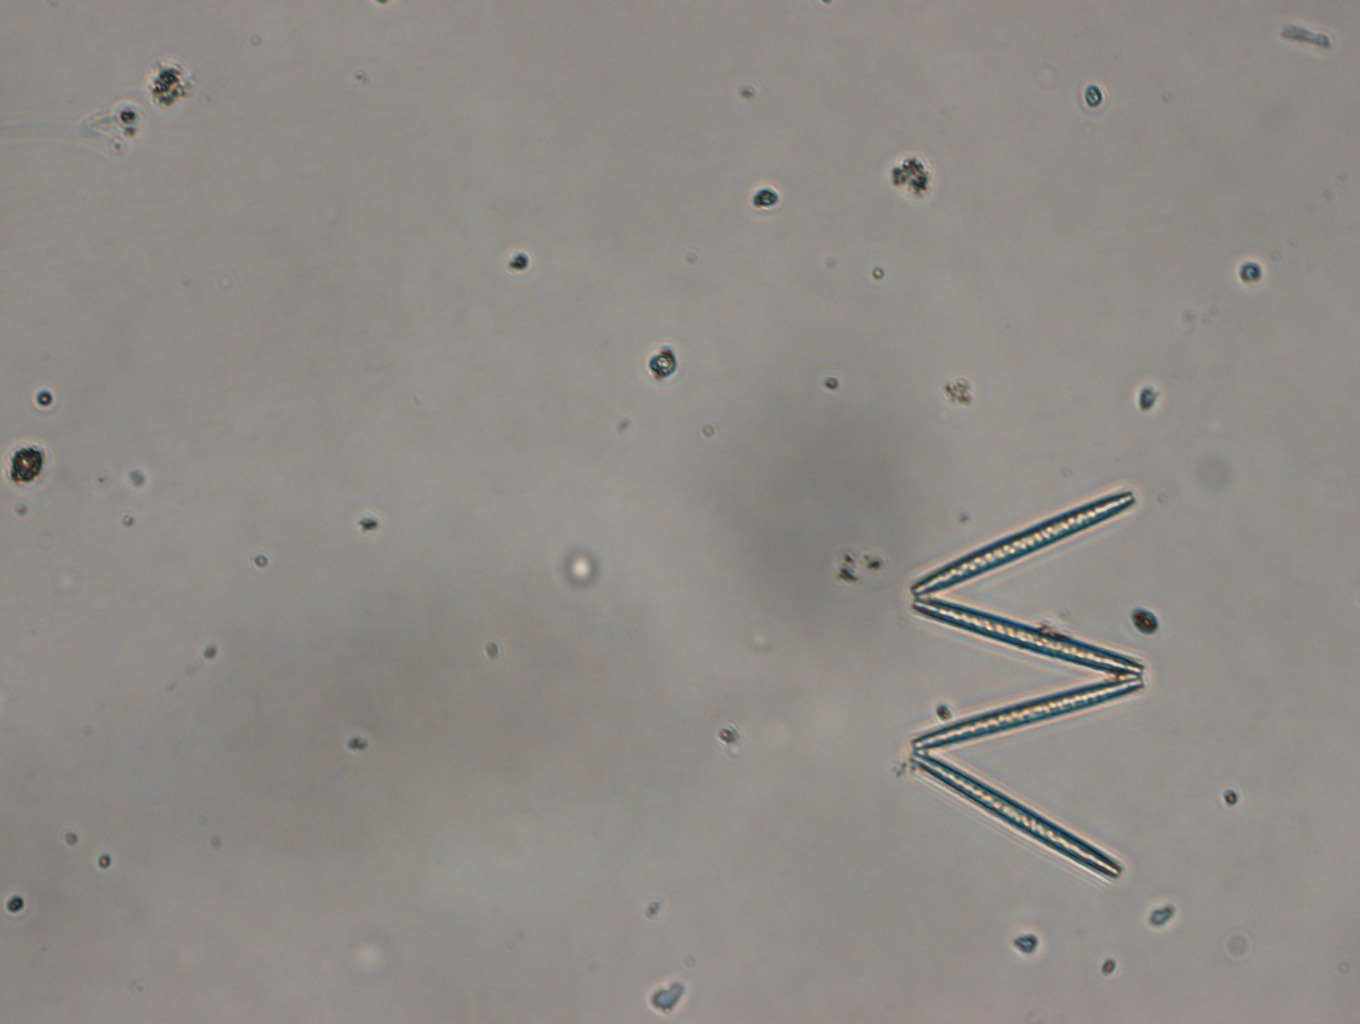thalassionema nitzschioides: (894, 473, 1158, 890)
